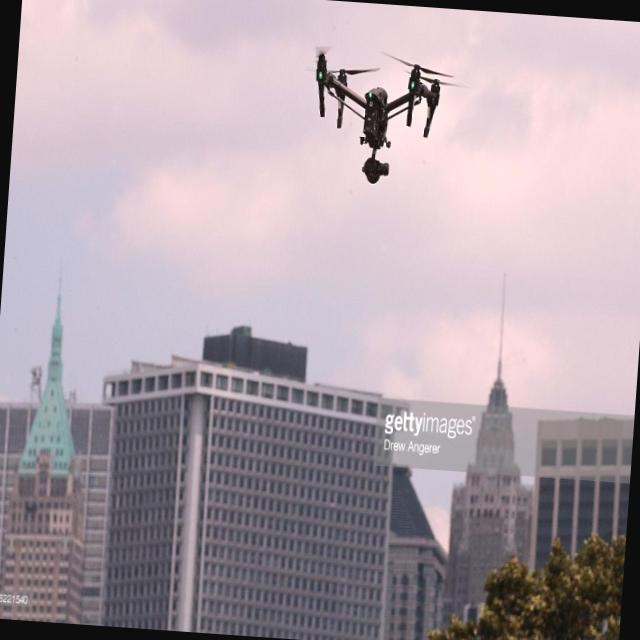drone: (301, 43, 455, 188)
